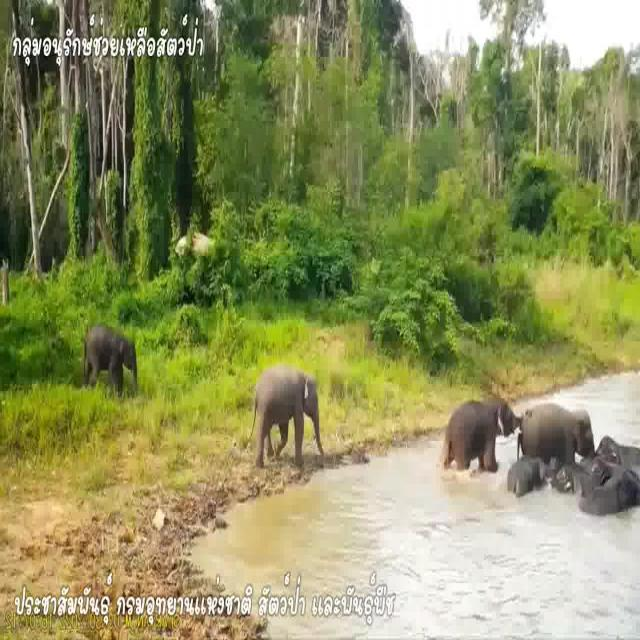Elephant: (254, 366, 324, 457), (446, 386, 508, 468), (519, 406, 597, 464), (84, 330, 137, 388)
